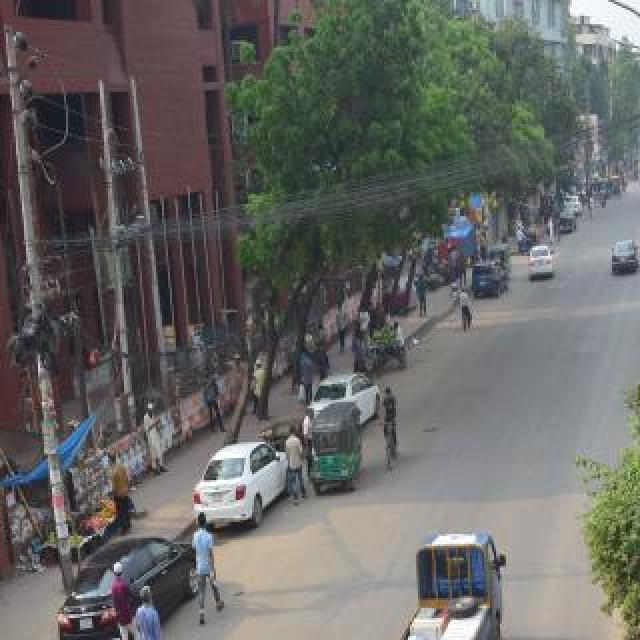car: (44, 502, 198, 640), (159, 397, 281, 567), (258, 360, 392, 466), (519, 235, 577, 295), (594, 220, 640, 292), (469, 254, 513, 310), (553, 197, 581, 239), (560, 186, 588, 224)
motorbike: (595, 184, 613, 214)
van: (368, 528, 518, 640)
